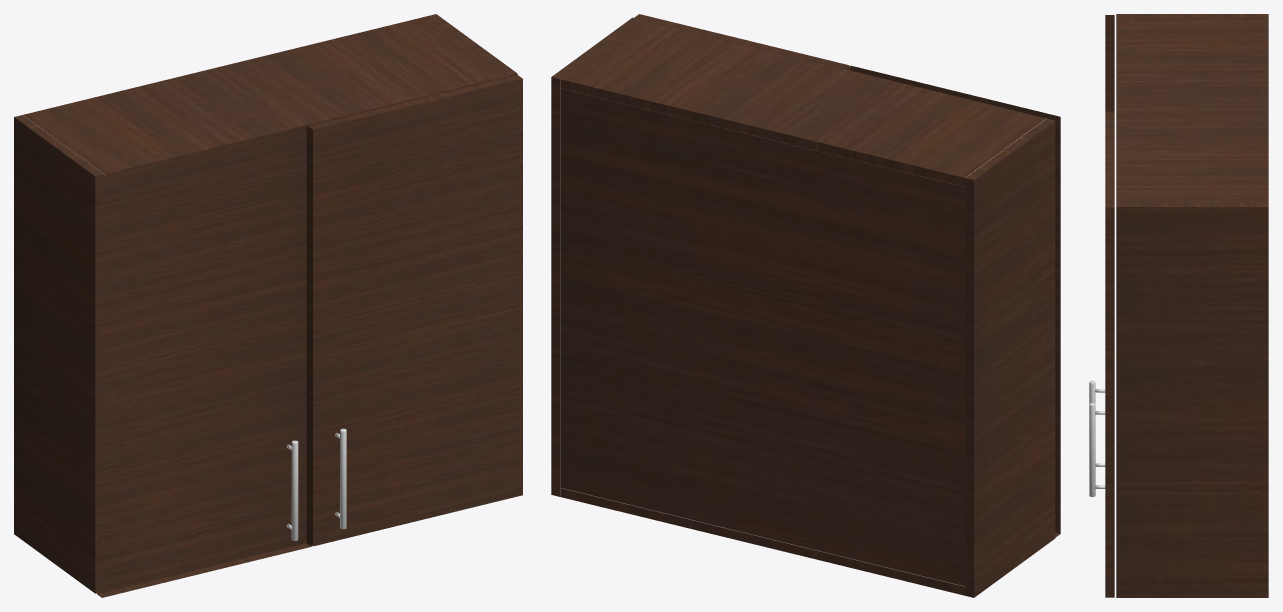
Rendered from up cabinet.fbx.
The picture shows the model from 3 angles, left to right: view 1: azimuth 30°, elevation 25°; view 2: azimuth 150°, elevation 25°; view 3: azimuth 270°, elevation 25°; orthographic projection. The views are drawn at different scales.
Parts seen in each view (by area): view 1: Part.001, Part.002, Carcass.001, Pull 8in (203mm) Bar, Pull 8in (203mm) Bar.001; view 2: Carcass.001, Part.001, Part.002; view 3: Carcass.001, Part.002, Part.001, Pull 8in (203mm) Bar.001.
Part boxes in pixels (bbox=[...]): Part.001: bbox=[97, 126, 311, 597]; Part.002: bbox=[308, 75, 522, 546]; Carcass.001: bbox=[14, 14, 517, 593]; Pull 8in (203mm) Bar: bbox=[286, 440, 298, 540]; Pull 8in (203mm) Bar.001: bbox=[335, 428, 346, 529]; Carcass.001: bbox=[551, 17, 1055, 597]; Part.001: bbox=[846, 65, 1060, 537]; Part.002: bbox=[634, 14, 849, 69]; Carcass.001: bbox=[1116, 14, 1268, 597]; Part.002: bbox=[1105, 111, 1114, 597]; Part.001: bbox=[1105, 15, 1114, 111]; Pull 8in (203mm) Bar.001: bbox=[1089, 403, 1105, 496].
Size of the model in its own units: 91.44 by 86.36 by 35.89.
Materials: 3 (1 with a texture image).
